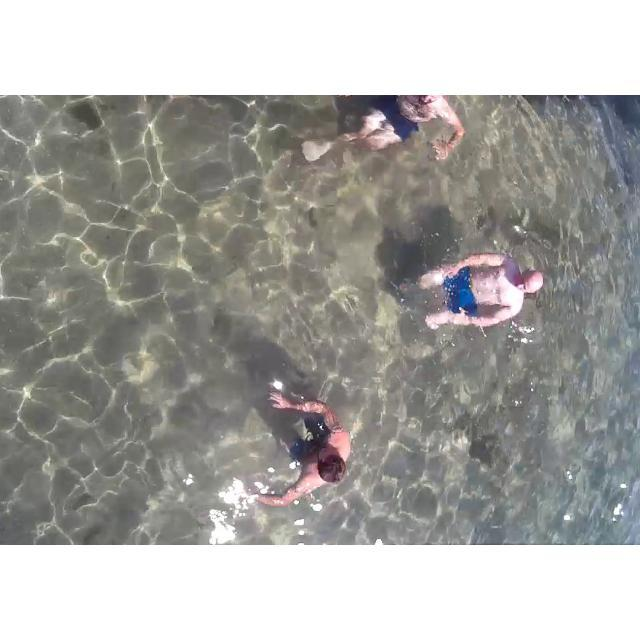human: (243, 366, 356, 524), (403, 227, 544, 349), (302, 95, 465, 191)
